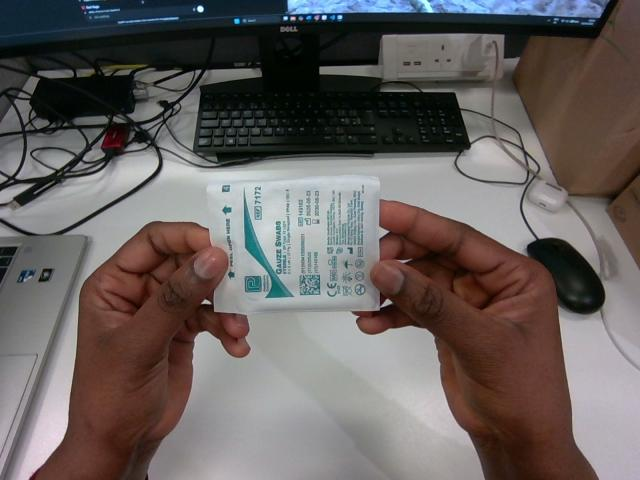gauze: (207, 175, 379, 312)
